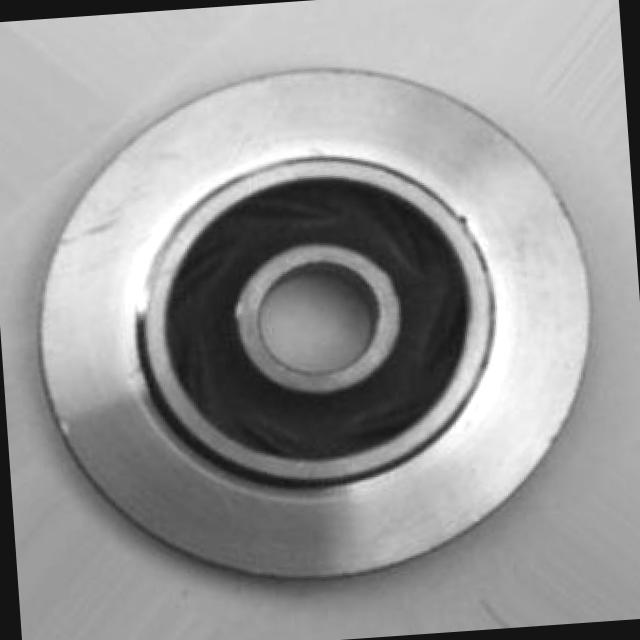Defect: (447, 206, 488, 237)
